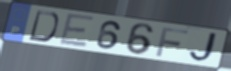6: (124, 23, 156, 57), (95, 19, 122, 51)
D: (27, 9, 61, 43)
E: (58, 12, 97, 49)
F: (154, 26, 191, 58)
J: (187, 32, 222, 64)
